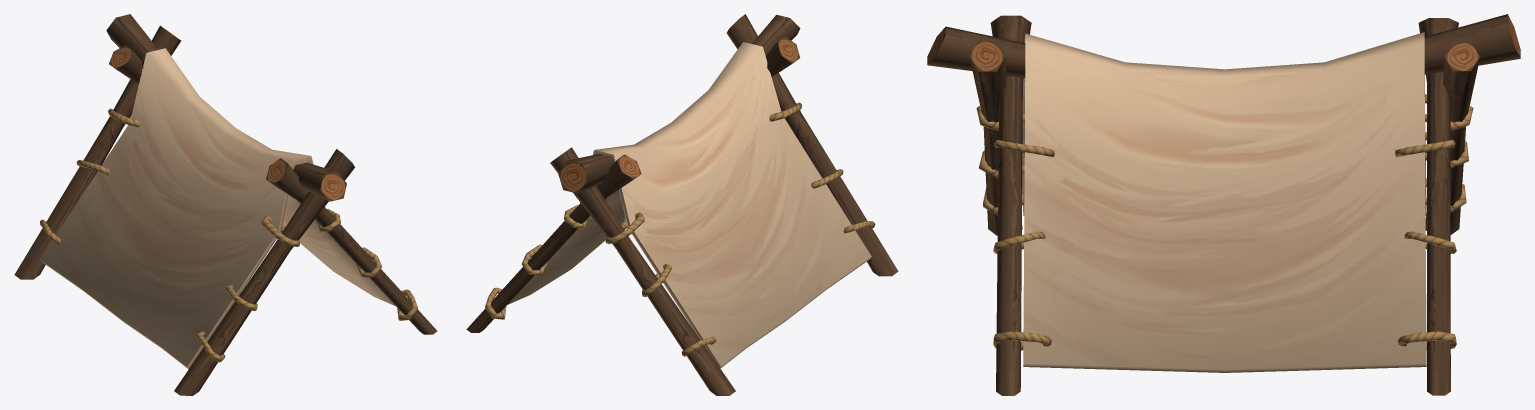
Rendered from SM_PROP_tent_small_battle_02.fbx.
The picture shows the model from 3 angles, left to right: view 1: azimuth 30°, elevation 25°; view 2: azimuth 150°, elevation 25°; view 3: azimuth 270°, elevation 25°; orthographic projection. The views are drawn at different scales.
Visible parts, largest first — view 1: SM_PROP_tent_small_battle_02; view 2: SM_PROP_tent_small_battle_02; view 3: SM_PROP_tent_small_battle_02.
Part boxes in pixels (box(x1,y1,x2,y2)): SM_PROP_tent_small_battle_02: box(14, 14, 437, 395); SM_PROP_tent_small_battle_02: box(466, 14, 898, 395); SM_PROP_tent_small_battle_02: box(927, 14, 1520, 395).
Size of the model in its own units: 206 by 161 by 297.
